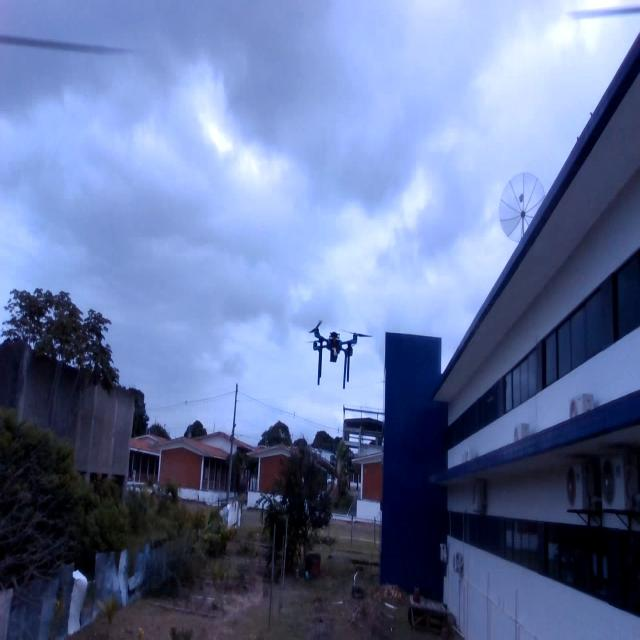-uav-: (298, 292, 376, 403)
